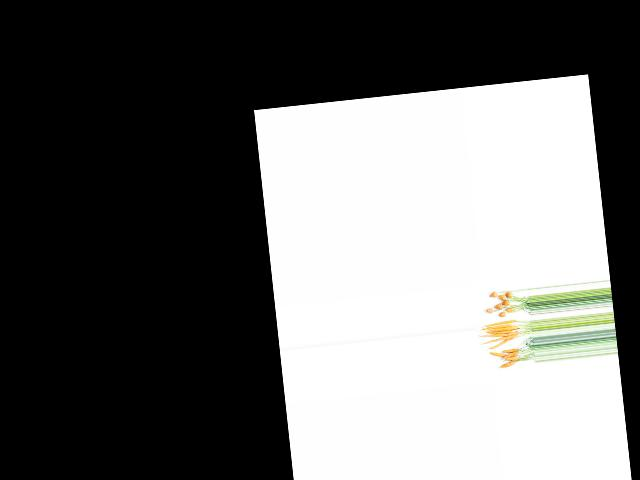carrot: (487, 291, 497, 300)
